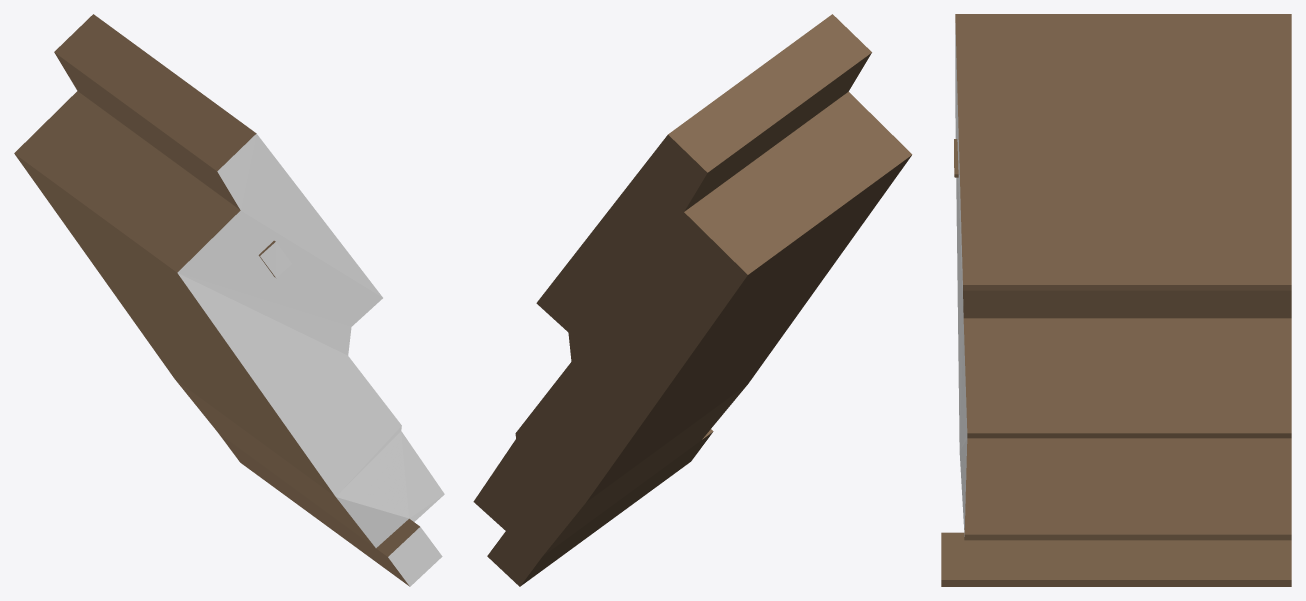
3 views of the same model, side by side, from view 1: azimuth 30°, elevation 25°; view 2: azimuth 150°, elevation 25°; view 3: azimuth 270°, elevation 25° (orthographic). The views are drawn at different scales.
Visible parts, largest first — view 1: City_2317252; view 2: City_2317252; view 3: City_2317252.
Boxes of the visible parts, <box> form: City_2317252: <box>14,14,444,586</box>; City_2317252: <box>473,14,912,586</box>; City_2317252: <box>941,14,1291,586</box>.
Bounding box in the file's own units: 1431 × 2435 × 1547.
